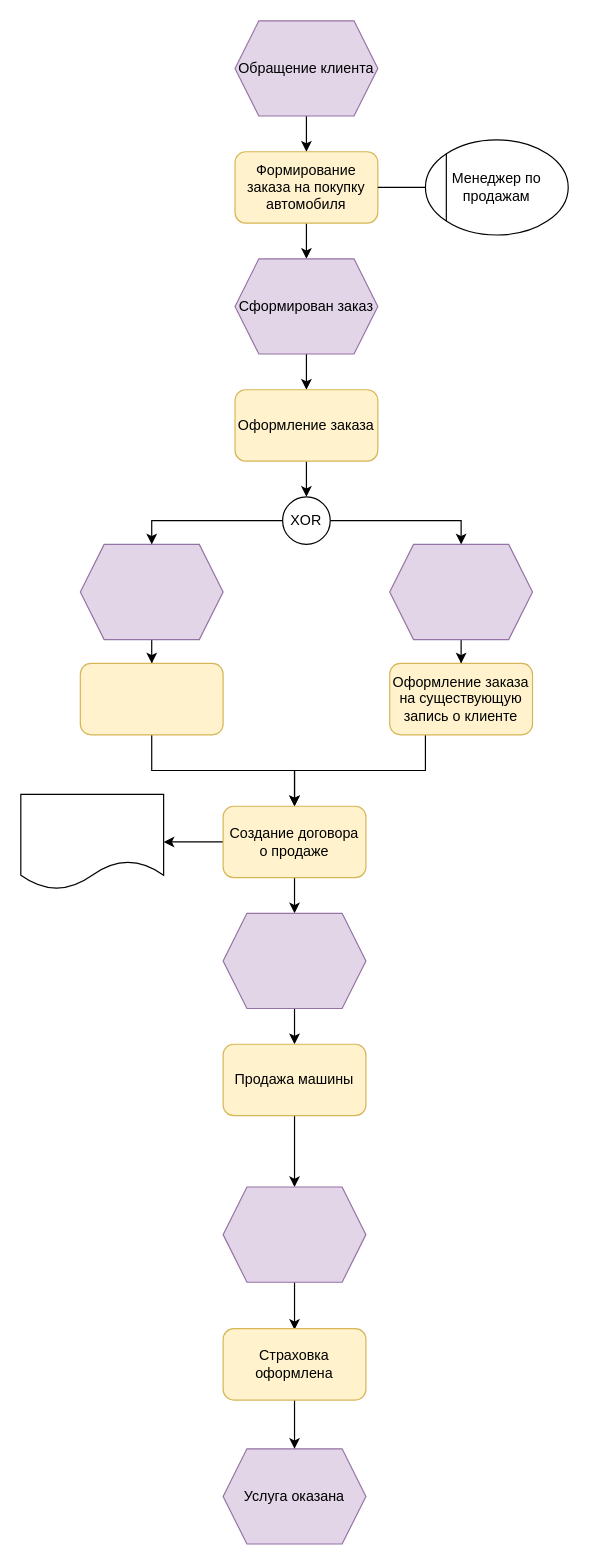
Image size: 589x1565. Some labels were removed from this diagram. Each missing label, with the centre of its shape:
"Договор о продаже" belongs at (x=92, y=841).
"Заказ оформлен на имеющегося клиента" belongs at (x=461, y=591).
"Заказ оформлен на нового клиента" belongs at (x=151, y=591).
"Оформление страховки" belongs at (x=294, y=1234).
"Создан договор о продаже" belongs at (x=294, y=960).
"Создание новой записи о клиенте и оформление на ней заказа" belongs at (x=151, y=698).
